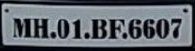character: (12, 17, 31, 38), (108, 17, 125, 40), (90, 17, 107, 39), (32, 17, 48, 38), (155, 17, 169, 39), (127, 18, 142, 38), (142, 18, 155, 39), (169, 17, 182, 38), (56, 18, 69, 38), (71, 18, 82, 39)
